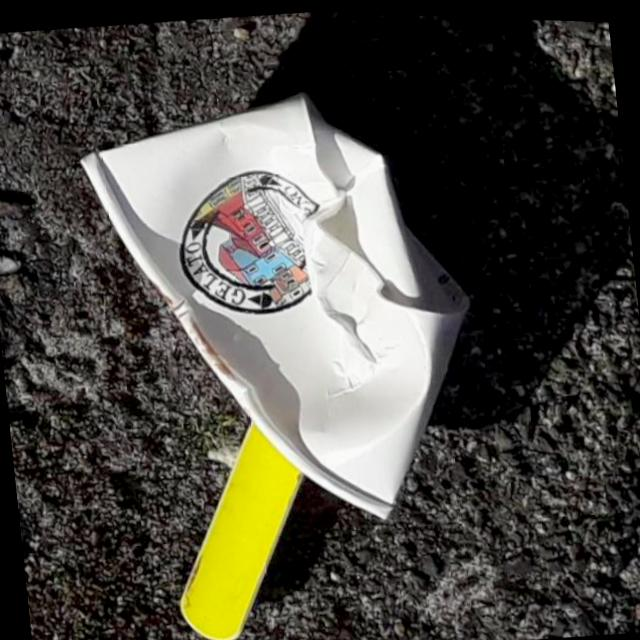Paper: (68, 62, 500, 552)
